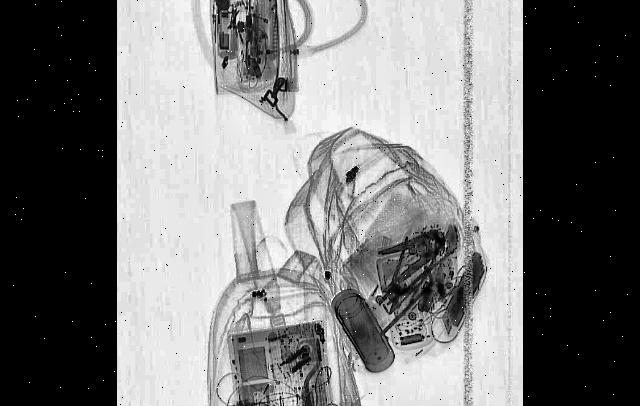Pliers: (378, 216, 448, 294)
